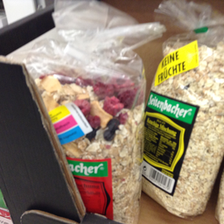cereal: (10, 27, 146, 219), (146, 26, 222, 218)
